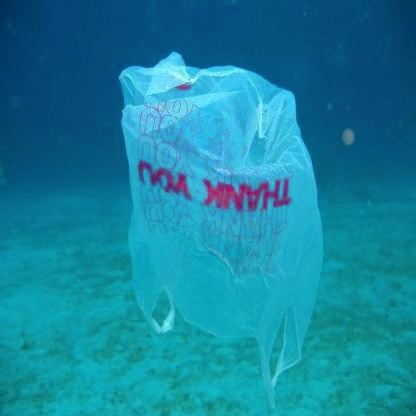pbag: (108, 43, 327, 416)
